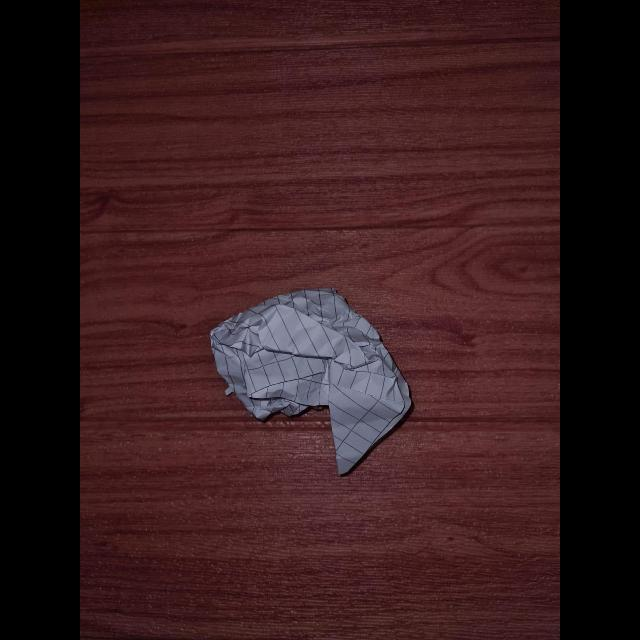trash: (215, 286, 401, 464)
